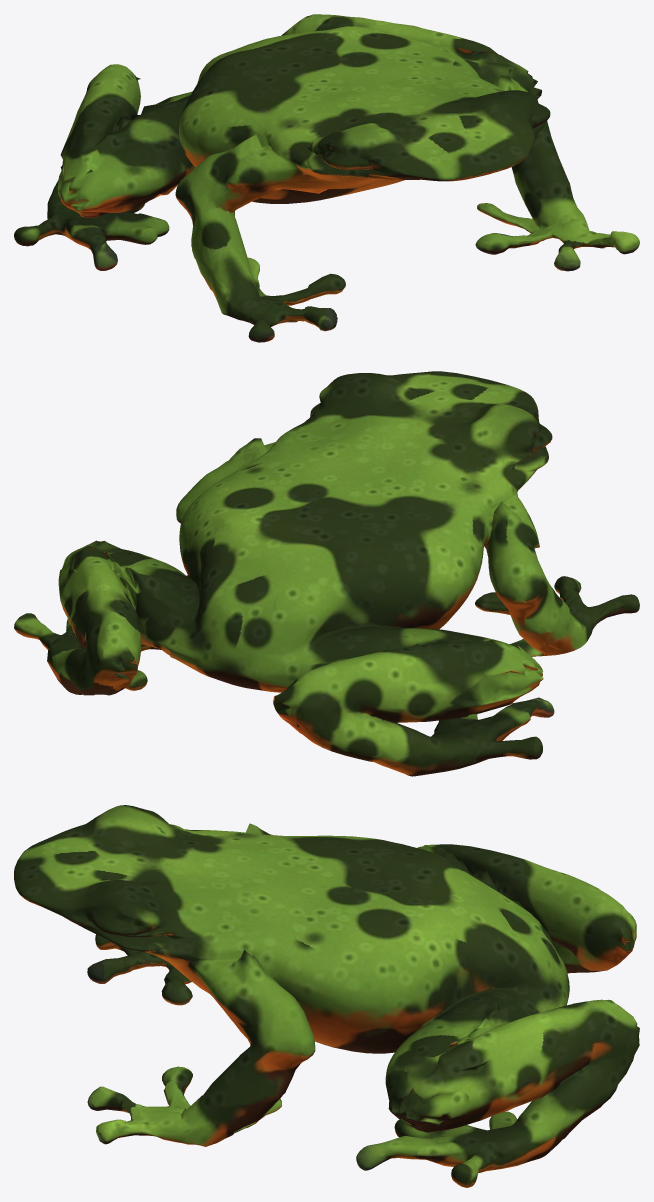
File: toad.glb
3 views of the same model, one above another, from view 1: azimuth 30°, elevation 25°; view 2: azimuth 150°, elevation 25°; view 3: azimuth 270°, elevation 25° (orthographic). The views are drawn at different scales.
Visible parts, largest first — view 1: toad; view 2: toad; view 3: toad.
Boxes of the visible parts, bbox=[...] form: toad: bbox=[14, 14, 639, 342]; toad: bbox=[14, 371, 639, 776]; toad: bbox=[14, 805, 639, 1187].
Bounding box in the file's own units: 0.0482 × 0.0176 × 0.046.
Materials: 1 (1 with a texture image).
